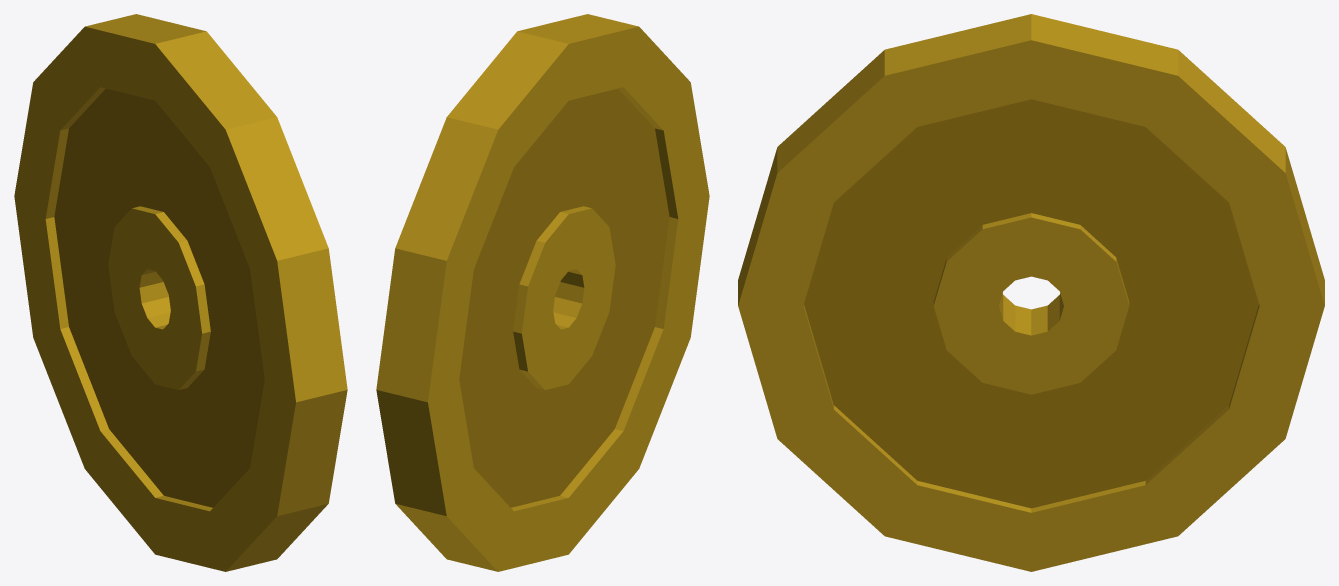
Rendered from SM_Prop_Gym_Plate_02.obj.
The picture shows the model from 3 angles, left to right: view 1: azimuth 30°, elevation 25°; view 2: azimuth 150°, elevation 25°; view 3: azimuth 270°, elevation 25°; orthographic projection. The views are drawn at different scales.
Visible parts, largest first — view 1: SM_Prop_Gym_Plate_02_0; view 2: SM_Prop_Gym_Plate_02_0; view 3: SM_Prop_Gym_Plate_02_0.
Part boxes in pixels (x1,y1,x2,y2): SM_Prop_Gym_Plate_02_0: [14, 14, 347, 571]; SM_Prop_Gym_Plate_02_0: [376, 14, 709, 571]; SM_Prop_Gym_Plate_02_0: [738, 14, 1324, 571].
Size of the model in its own units: 0.0438 by 0.4142 by 0.4142.
Materials: 1 (1 with a texture image).
